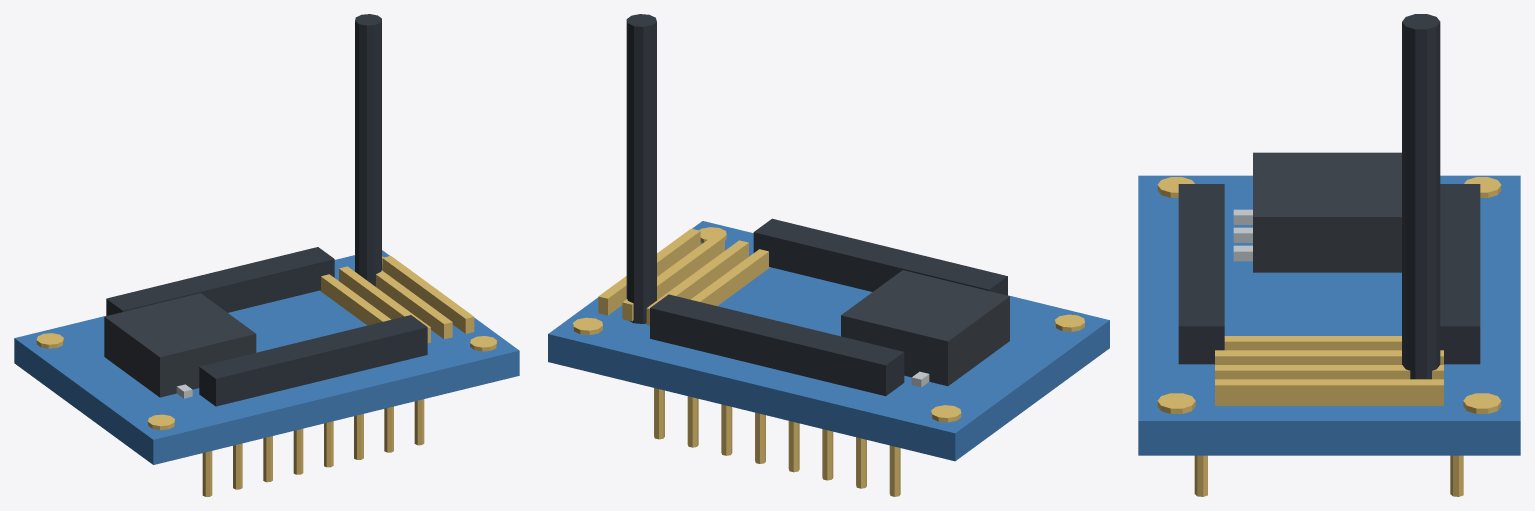
File: product-14.glb
3 views of the same model, side by side, from view 1: azimuth 30°, elevation 25°; view 2: azimuth 150°, elevation 25°; view 3: azimuth 270°, elevation 25° (orthographic). The views are drawn at different scales.
Visible parts, largest first — view 1: product-14; view 2: product-14; view 3: product-14.
Part boxes in pixels (x1=…): product-14: x1=14, y1=14, x2=519, y2=496; product-14: x1=548, y1=14, x2=1109, y2=496; product-14: x1=1138, y1=14, x2=1520, y2=496.
Size of the model in its own units: 0.76 by 0.71 by 0.5.
